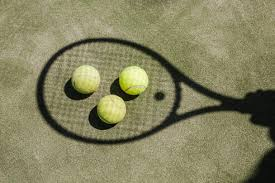tennis_ball: (117, 65, 149, 96), (97, 94, 126, 124), (71, 65, 100, 95)
